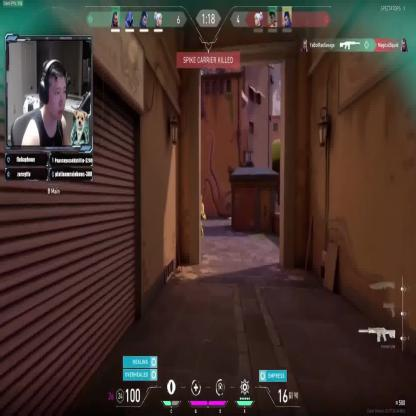enemy: (194, 193, 206, 245)
enemy_head: (200, 195, 204, 203)
